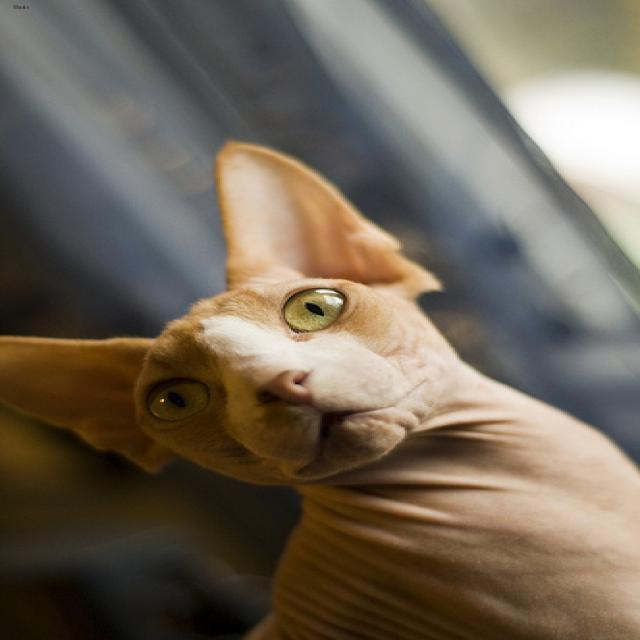Sphynx: (0, 137, 455, 488)
